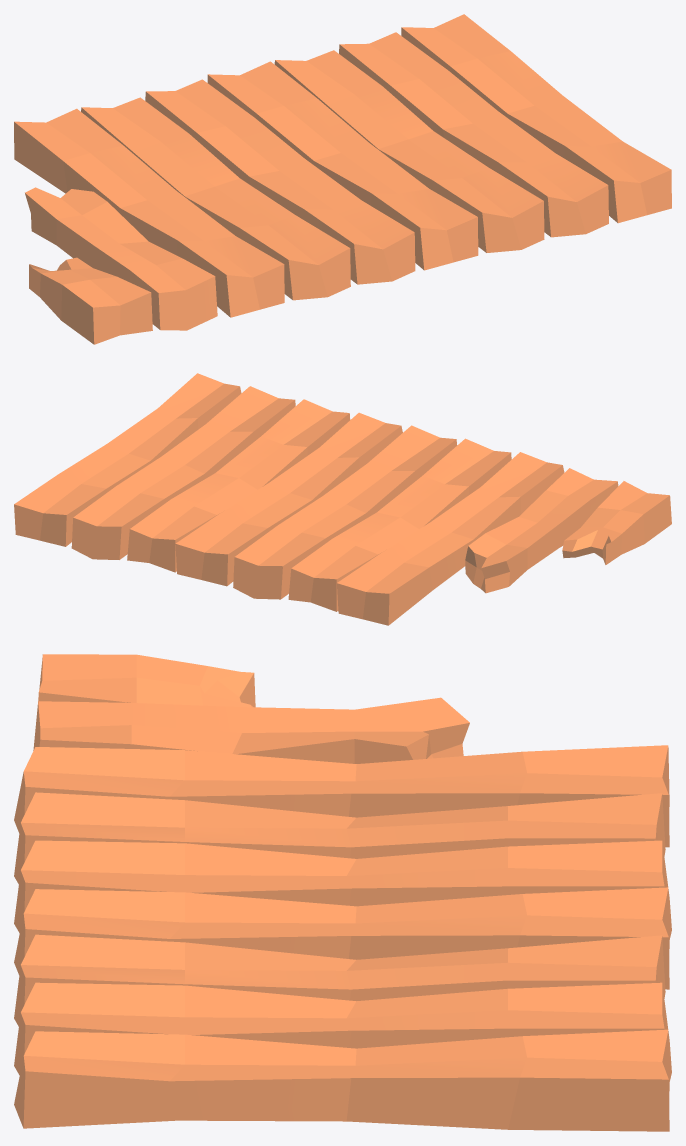
Rendered from PlatformL_Wood2.fbx.
The picture shows the model from 3 angles, top to bottom: view 1: azimuth 30°, elevation 25°; view 2: azimuth 150°, elevation 25°; view 3: azimuth 270°, elevation 25°; orthographic projection. The views are drawn at different scales.
Visible parts, largest first — view 1: WoodPlank5__1_, WoodPlank4_1, WoodPlank4, WoodPlank5, WoodPlank5_1, WoodPlank6_1, WoodPlank6, WoodPlank9, WoodPlank12; view 2: WoodPlank5__1_, WoodPlank4_1, WoodPlank4, WoodPlank5, WoodPlank5_1, WoodPlank6_1, WoodPlank6, WoodPlank9, WoodPlank12; view 3: WoodPlank5, WoodPlank5_1, WoodPlank5__1_, WoodPlank4, WoodPlank4_1, WoodPlank6, WoodPlank6_1, WoodPlank9, WoodPlank12.
Part boxes in pixels (box(x1,y1,x2,y2)): WoodPlank5__1_: box(14, 108, 284, 317); WoodPlank4_1: box(145, 79, 415, 284); WoodPlank4: box(339, 32, 608, 237); WoodPlank5: box(401, 14, 671, 223); WoodPlank5_1: box(207, 61, 478, 270); WoodPlank6_1: box(81, 97, 350, 300); WoodPlank6: box(274, 50, 544, 252); WoodPlank9: box(25, 187, 217, 330); WoodPlank12: box(29, 257, 152, 344); WoodPlank5__1_: box(337, 452, 564, 625); WoodPlank4_1: box(233, 425, 457, 599); WoodPlank4: box(71, 386, 295, 559); WoodPlank5: box(14, 373, 241, 546); WoodPlank5_1: box(175, 412, 402, 586); WoodPlank6_1: box(288, 438, 511, 611); WoodPlank6: box(127, 399, 350, 572); WoodPlank9: box(465, 468, 618, 593); WoodPlank12: box(562, 481, 671, 564); WoodPlank5: box(14, 1029, 669, 1131); WoodPlank5_1: box(14, 887, 669, 989); WoodPlank5__1_: box(14, 745, 669, 847); WoodPlank4: box(14, 982, 671, 1081); WoodPlank4_1: box(14, 840, 671, 939); WoodPlank6: box(14, 934, 665, 1026); WoodPlank6_1: box(14, 792, 665, 884); WoodPlank9: box(33, 697, 469, 763); WoodPlank12: box(38, 654, 255, 707).
Bounding box in the file's own units: 606 × 44.35 × 396.
